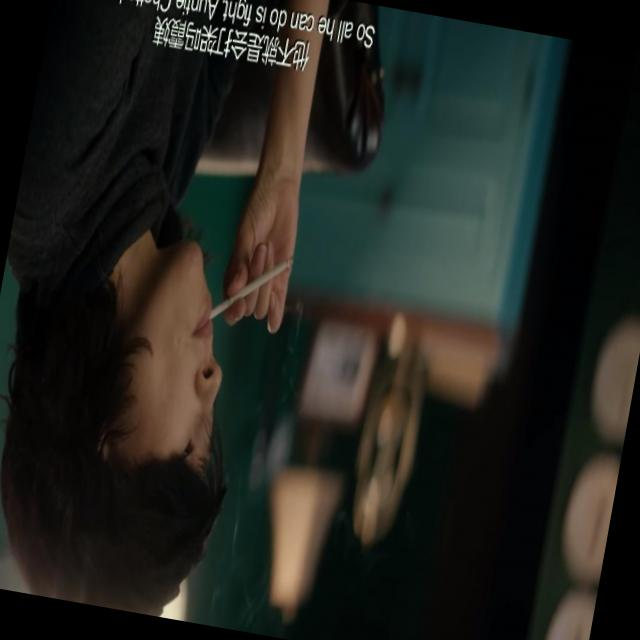smoke: (206, 240, 302, 331)
